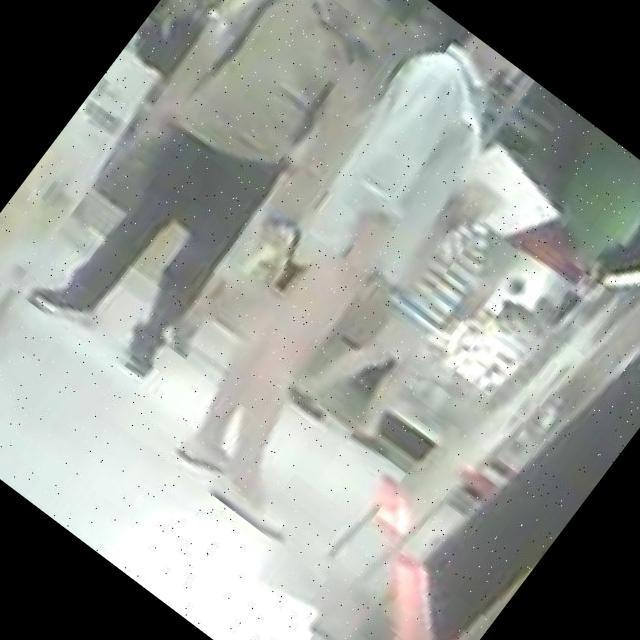person: (130, 14, 592, 544), (14, 0, 433, 389), (288, 183, 541, 468)
